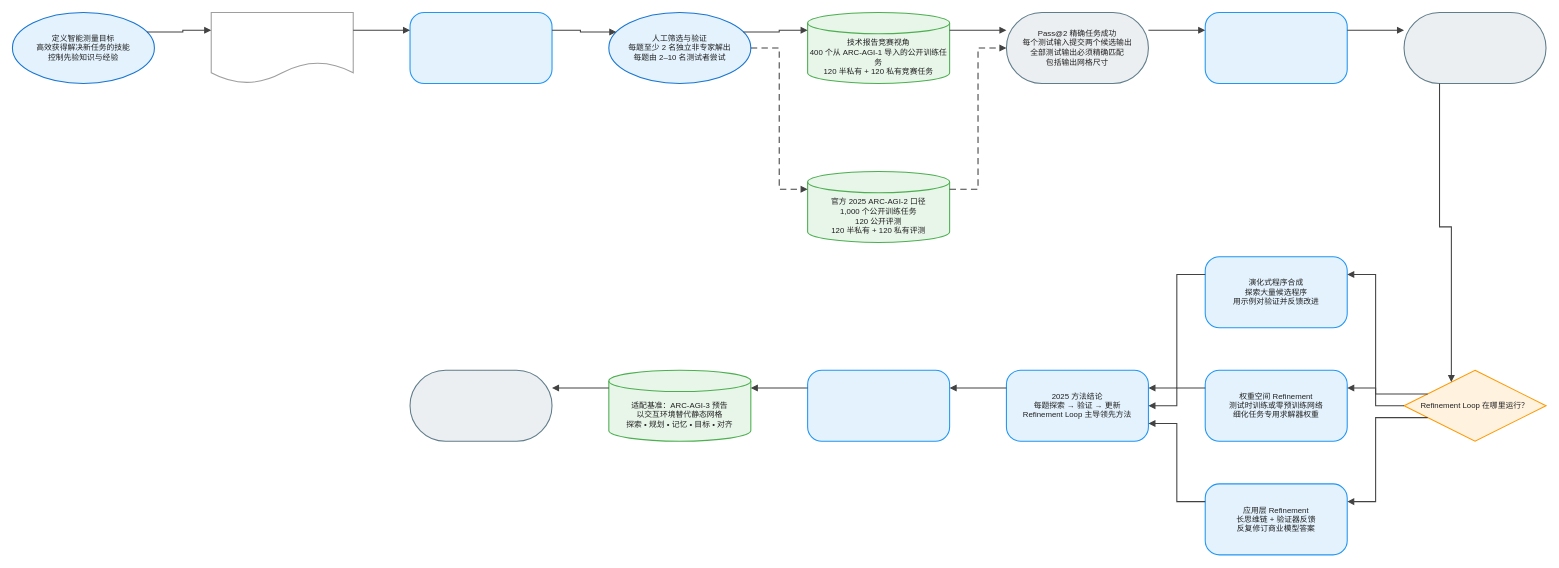
This 1559x568 diagram has some shape labels left out. Here are the shapes that lost their labels. From the top down, the centre of each, then its label:
[281,48]: 保留 ARC-AGI 任务合同 人工创建、逻辑唯一 • 仅依赖核心知识 2+ 示例对 • 至少 1 个测试输入 每个测试输入允许两次尝试
[480,48]: 从 ARC-AGI-1 演进到 ARC-AGI-2 沿用 ≤30×30、10 个取值的网格格式 提高复杂度与泛化难度
[1275,48]: 运行开放全球竞赛 1,455 支队伍 • 15,154 次 Kaggle 提交 90 篇论文提交；获奖工作全部开源
[1474,48]: 核验私有集任务准确率 NVARC 在 Pass@2 下达到 24.03% 每题 $0.20；私有集得分决定名次
[480,405]: 发布年度技术报告 得分、成本、获奖系统与开源论文 延续 ARC Prize 与基准适配
[878,405]: 诊断剩余限制 推理表现依赖知识覆盖 公开格式暴露带来新型污染风险
